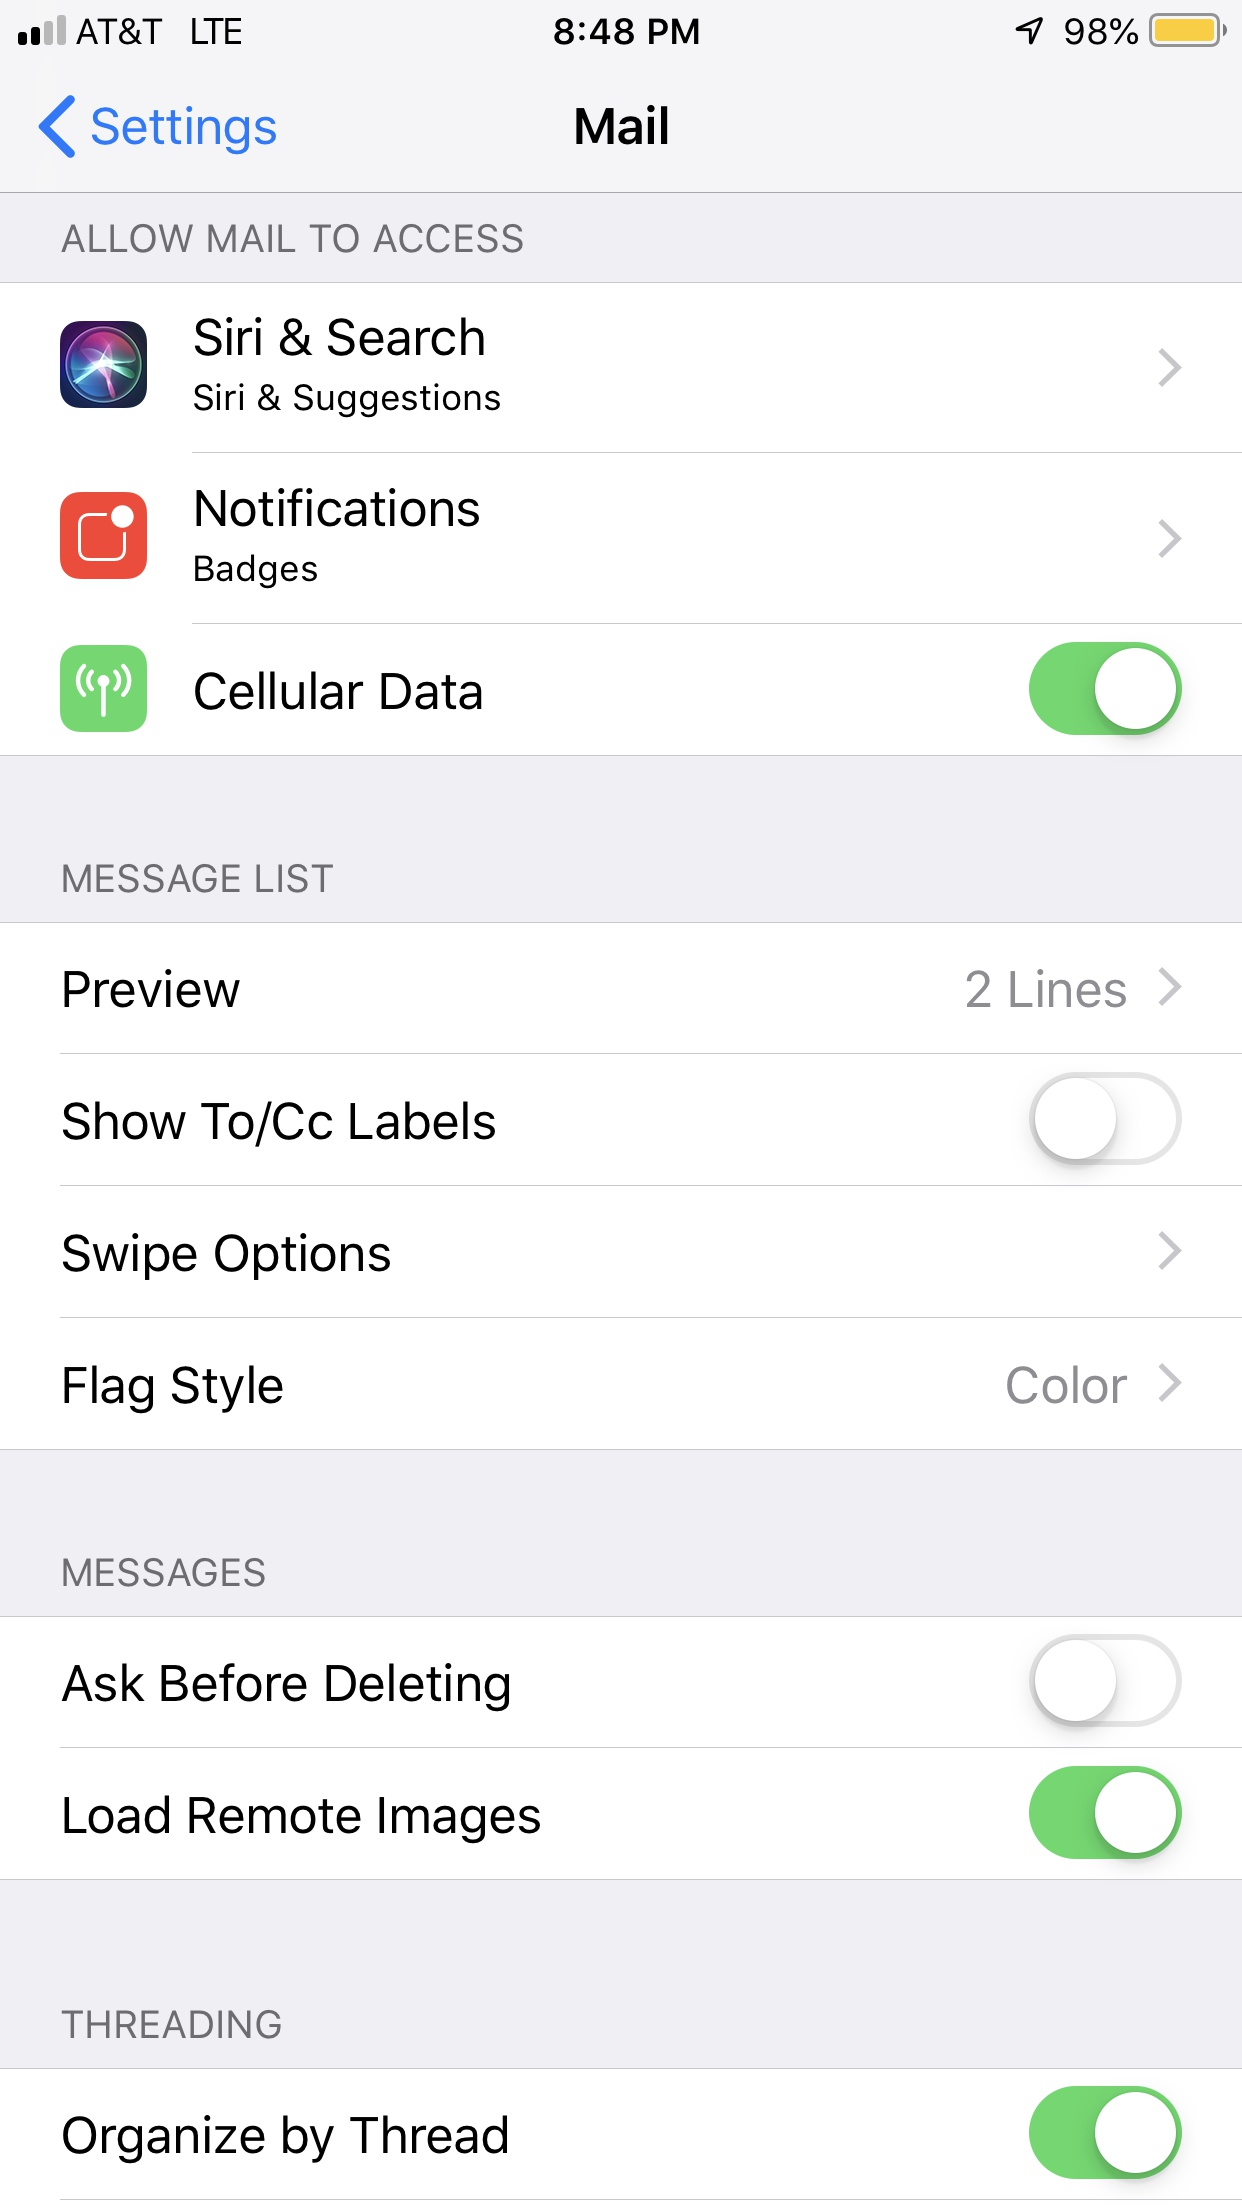Icon: (39, 96, 76, 161), (1157, 347, 1181, 390), (1159, 519, 1183, 560), (1159, 1230, 1183, 1271), (1159, 1362, 1183, 1403), (1159, 968, 1183, 1008)
Image: (59, 491, 149, 579), (61, 645, 149, 734), (61, 321, 149, 409)
Switch: (1028, 1071, 1183, 1166), (1028, 1765, 1183, 1861), (1028, 641, 1183, 735), (1028, 1633, 1183, 1727), (1028, 2087, 1183, 2181)
Text: (64, 1794, 541, 1844), (64, 1662, 511, 1712), (64, 2114, 508, 2164), (64, 1101, 496, 1148), (64, 1231, 391, 1281), (61, 223, 525, 253), (196, 317, 485, 358), (196, 670, 482, 711), (196, 487, 481, 528), (64, 1363, 284, 1413), (193, 384, 500, 419), (93, 106, 278, 156), (64, 863, 334, 895), (65, 969, 243, 1008), (62, 2009, 284, 2040), (966, 968, 1127, 1008), (64, 1557, 265, 1588), (1005, 1365, 1128, 1404), (194, 554, 318, 590), (576, 105, 669, 146)
UpperTaskBar: (2, 2, 1242, 49)
